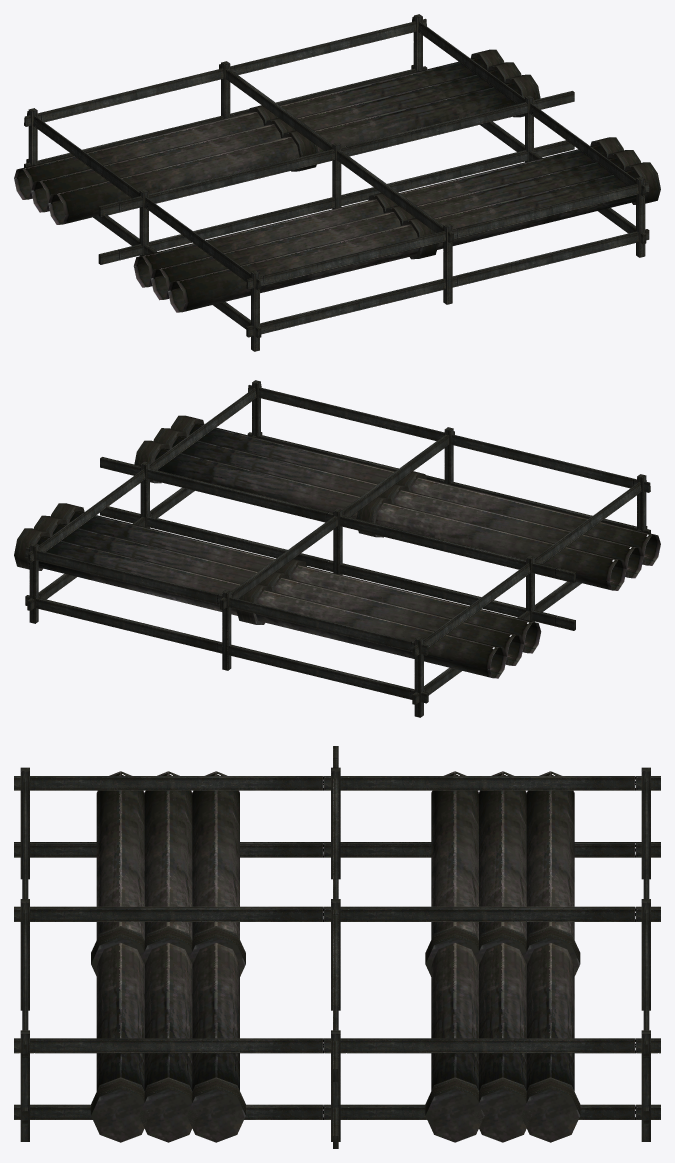
The model's file is tesla_dressing_pipe_clusters_01.dae.
3 renders of one model, top to bottom at view 1: azimuth 30°, elevation 25°; view 2: azimuth 150°, elevation 25°; view 3: azimuth 270°, elevation 25°, orthographic. The views are drawn at different scales.
Parts seen in each view (by area): view 1: cluster_01_pipes, cluster_01_frame; view 2: cluster_01_pipes, cluster_01_frame; view 3: cluster_01_pipes, cluster_01_frame.
Part boxes in pixels (x1,y1,x2,y2): cluster_01_pipes: (14,49,660,312); cluster_01_frame: (24,14,649,351); cluster_01_pipes: (14,415,660,678); cluster_01_frame: (25,380,650,717); cluster_01_pipes: (91,771,580,1142); cluster_01_frame: (14,746,660,1148).
Size of the model in its own units: 4 by 0.6225 by 3.39.
